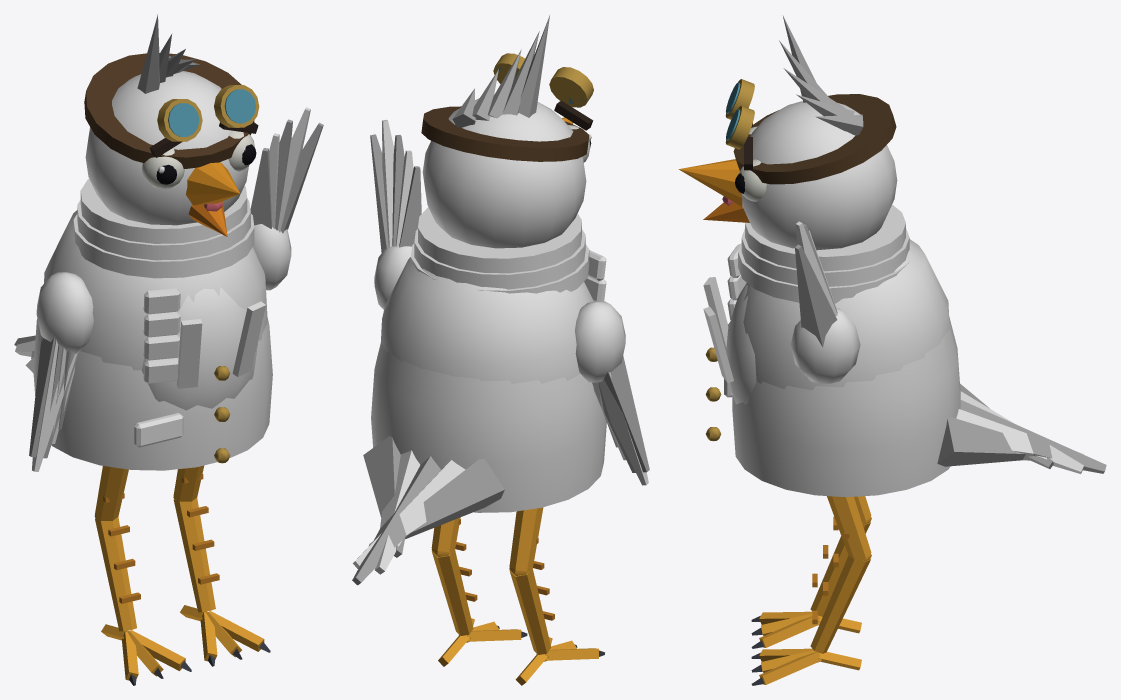
The model's file is alien_bird.fbx.
The picture shows the model from 3 angles, left to right: view 1: azimuth 30°, elevation 25°; view 2: azimuth 150°, elevation 25°; view 3: azimuth 270°, elevation 25°; orthographic projection. The views are drawn at different scales.
Parts seen in each view (by area): view 1: alien_bird, alien_bird__gesture; view 2: alien_bird, alien_bird__gesture; view 3: alien_bird, alien_bird__gesture.
Part boxes in pixels (bbox=[...]): alien_bird: bbox=[14, 14, 272, 685]; alien_bird__gesture: bbox=[250, 107, 323, 290]; alien_bird: bbox=[352, 15, 649, 685]; alien_bird__gesture: bbox=[370, 119, 421, 309]; alien_bird: bbox=[678, 15, 1106, 685]; alien_bird__gesture: bbox=[790, 221, 860, 383].
Bounding box in the file's own units: 0.1829 × 0.3962 × 0.2447.
